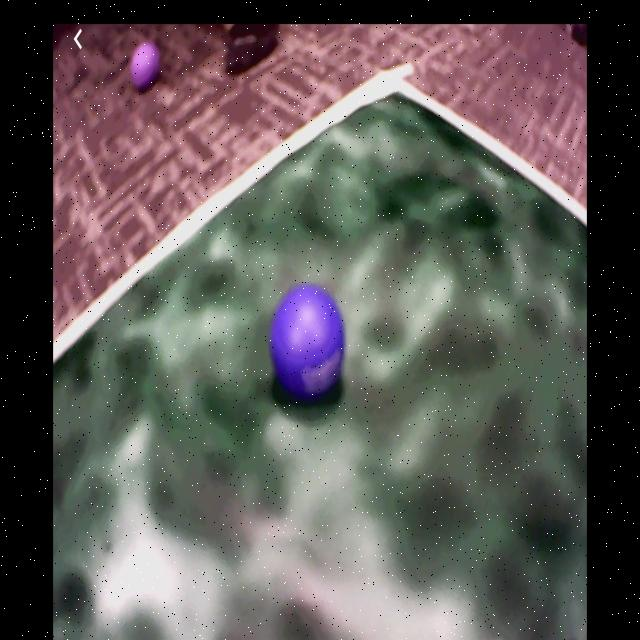ball: (268, 284, 347, 395), (129, 43, 159, 93)
